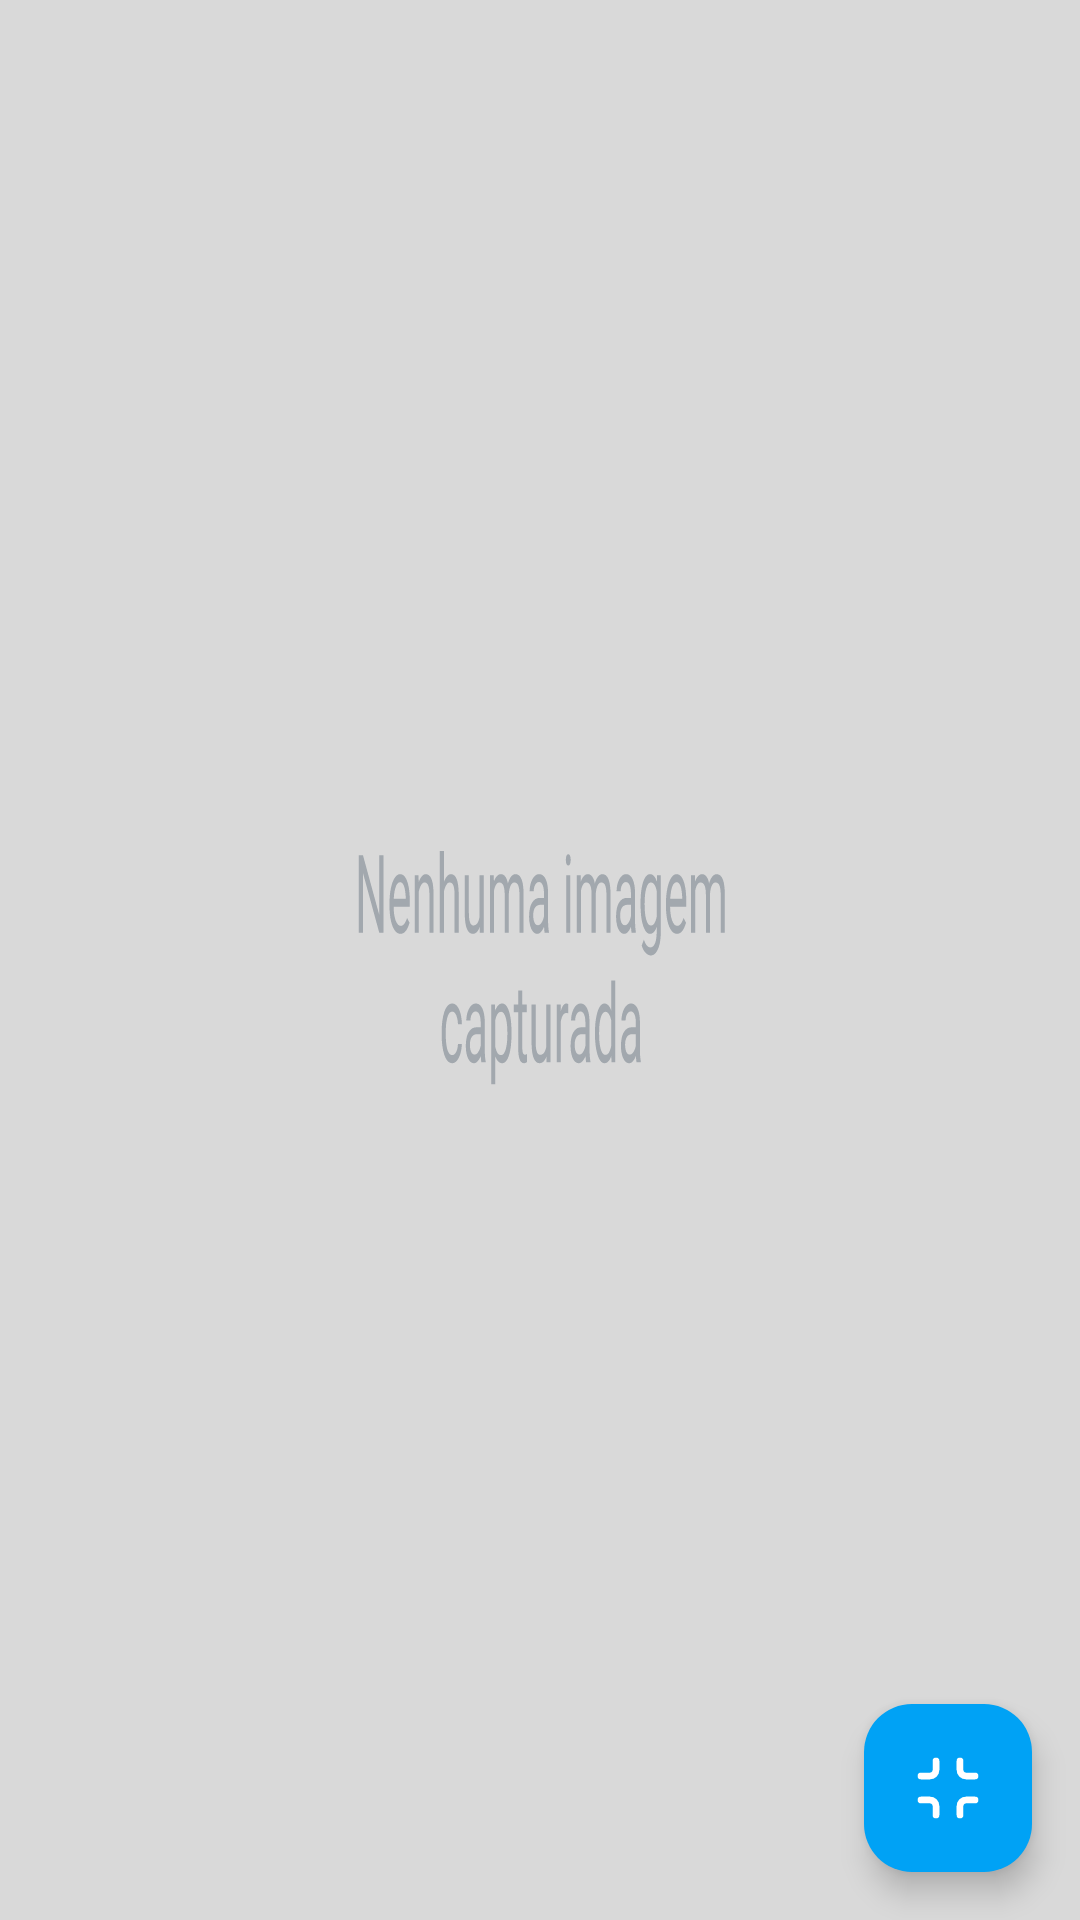

Screen size 1080 × 1920. Icon name, then its center in pixels as (x=x, y=y):
Full Screen: (x=948, y=1788)
